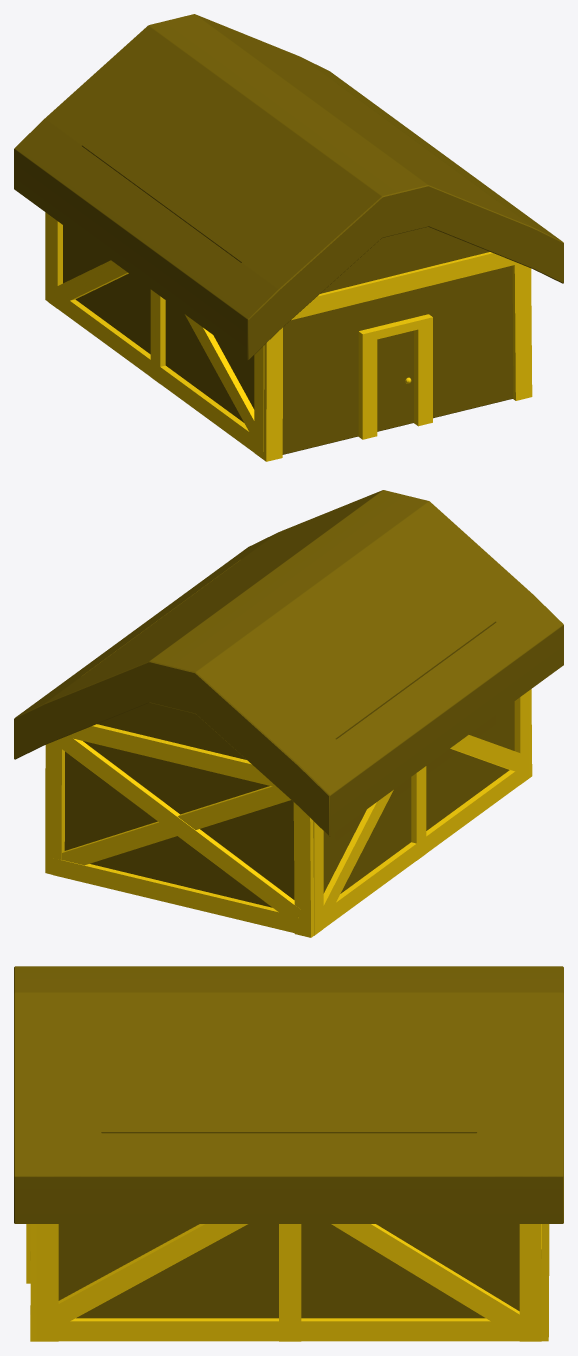
The model's file is Big house.fbx.
The picture shows the model from 3 angles, top to bottom: view 1: azimuth 30°, elevation 25°; view 2: azimuth 150°, elevation 25°; view 3: azimuth 270°, elevation 25°; orthographic projection. The views are drawn at different scales.
Visible parts, largest first — view 1: pCube1, pCube10, Door, pCube12, pCube7, pCube6, pCube8, pCube9, pCube3, pCube5, pCube4; view 2: pCube1, pCube15, pCube13, pCube11, pCube16, pCube14, pCube7, pCube6, pCube9, pCube8, pCube3, pCube4 (+1 smaller); view 3: pCube1, pCube7, pCube6, pCube9, pCube8, pCube3, pCube4, pCube5, pCube11, pCube10.
Boxes of the visible parts, x1,y1,x2,y2 form: pCube1: (14, 14, 563, 454); pCube10: (263, 262, 532, 461); Door: (358, 314, 432, 439); pCube12: (291, 252, 516, 320); pCube7: (160, 365, 254, 452); pCube6: (57, 292, 150, 376); pCube8: (185, 314, 254, 437); pCube9: (53, 260, 128, 305); pCube3: (150, 289, 165, 383); pCube5: (48, 214, 62, 308); pCube4: (254, 345, 264, 459); pCube1: (14, 490, 563, 907); pCube15: (55, 736, 300, 920); pCube13: (52, 858, 298, 933); pCube11: (45, 740, 313, 937); pCube16: (62, 786, 290, 865); pCube14: (66, 724, 277, 787); pCube7: (426, 770, 520, 853); pCube6: (323, 842, 416, 928); pCube9: (319, 790, 393, 923); pCube8: (450, 735, 524, 772); pCube3: (411, 766, 426, 860); pCube4: (514, 690, 529, 784); pCube1: (14, 966, 563, 1318); pCube7: (58, 1318, 279, 1341); pCube6: (301, 1318, 519, 1341); pCube9: (331, 1224, 528, 1336); pCube8: (48, 1224, 247, 1326); pCube3: (279, 1224, 301, 1341); pCube4: (36, 1224, 58, 1341); pCube5: (519, 1224, 541, 1341); pCube11: (541, 1224, 549, 1341); pCube10: (30, 1224, 36, 1341).
Bounding box in the file's own units: 4.51 × 3.32 × 5.79.
